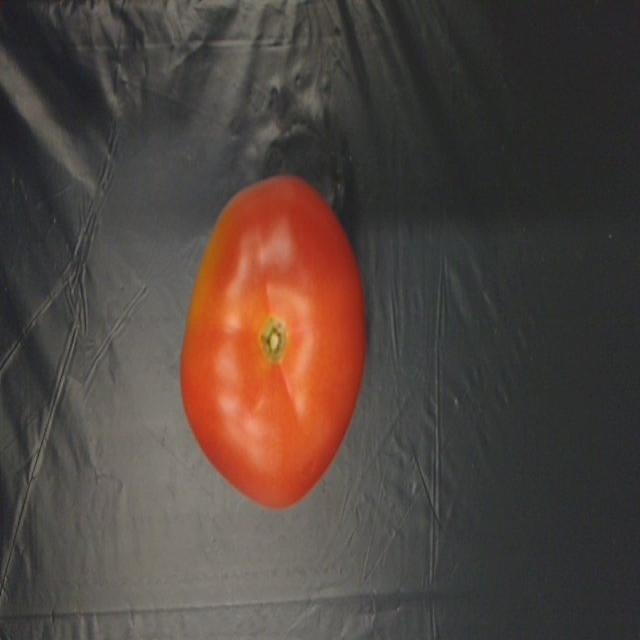sari: (172, 178, 374, 520)
